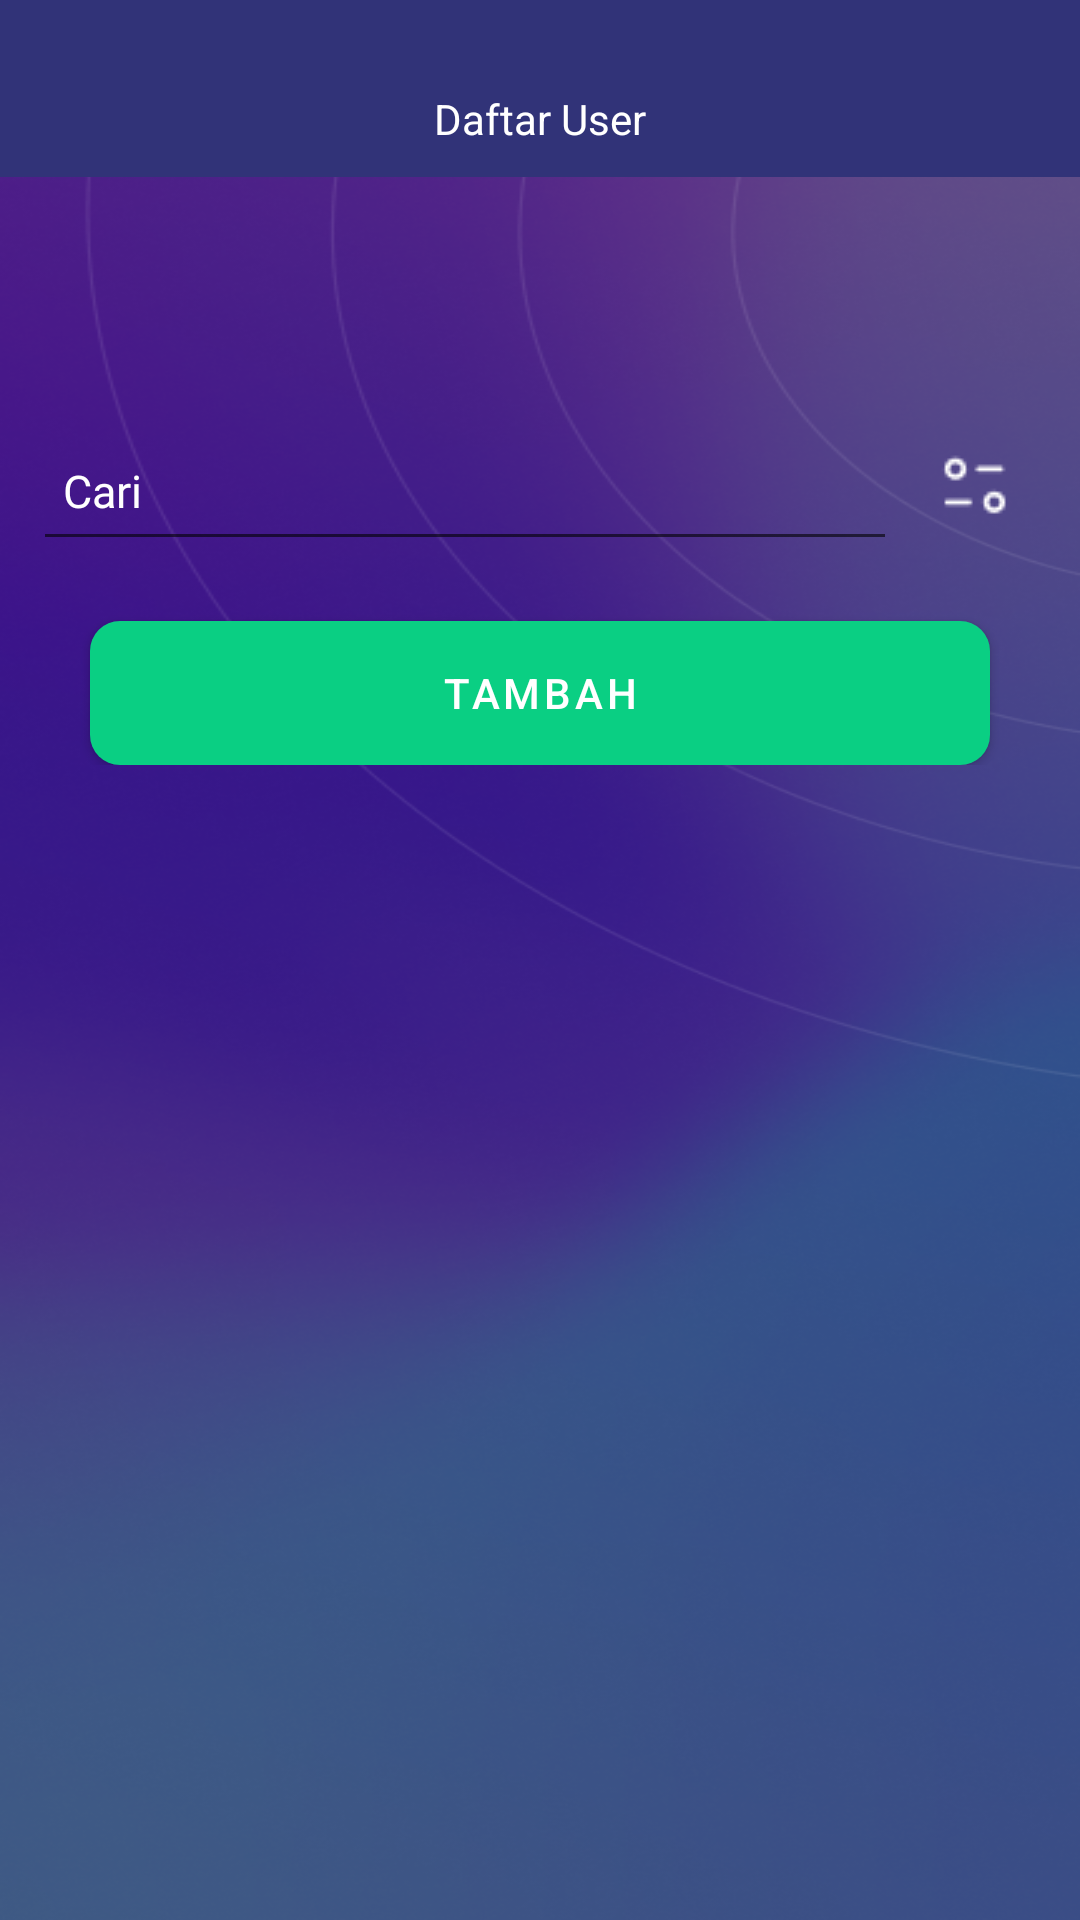

Named icons in this screenshot (1080px x 1920px) and their bounding boxes, bbox=[x1, y1, x2, y2]:
filter: bbox=[944, 456, 1006, 514]
